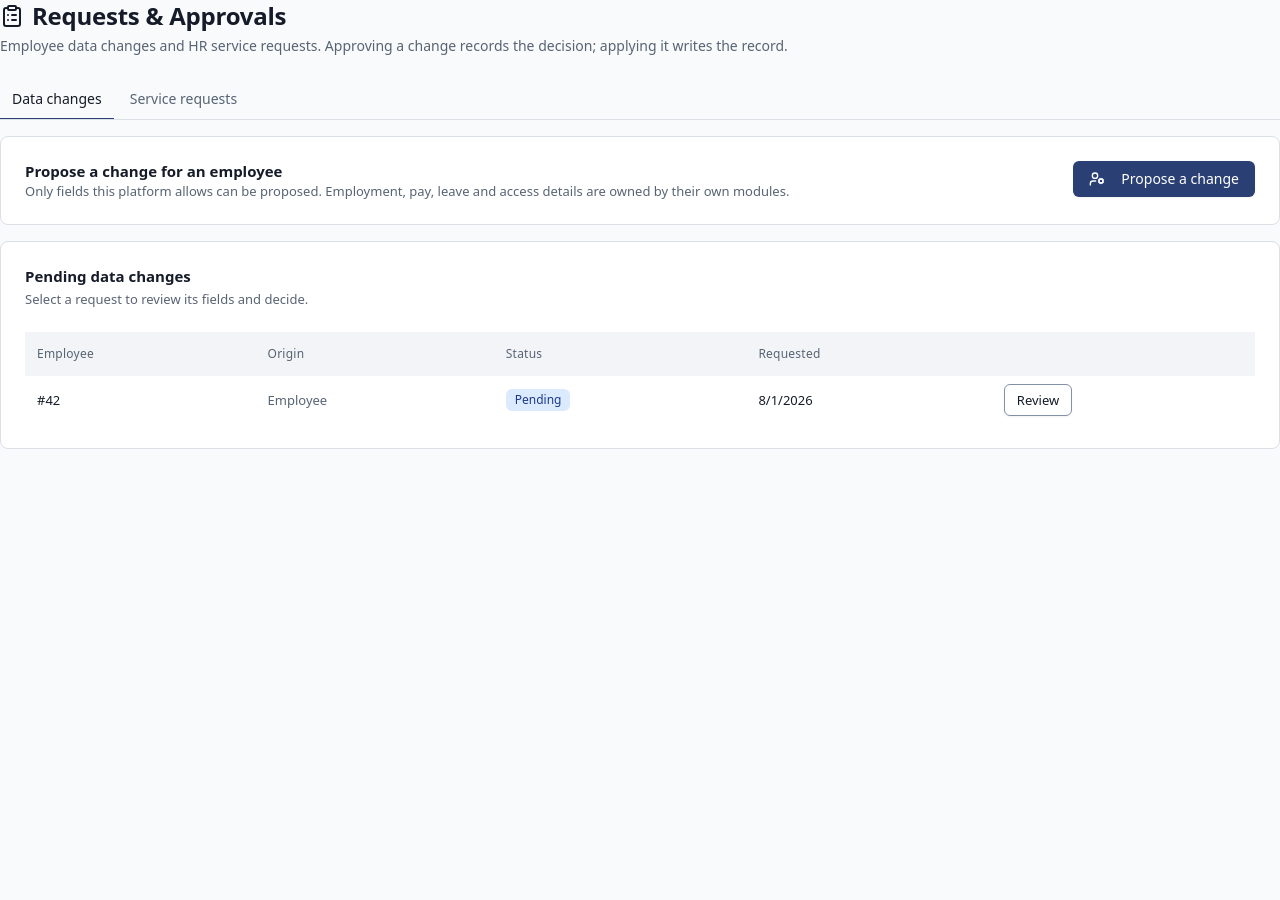
Requests & Approvals (HR) › rejecting a service request › asks for confirmation instead of rejecting in one click, and Cancel rejects nothing
Click the tab "Service requests": click(183, 100) [118, 80, 249, 120]
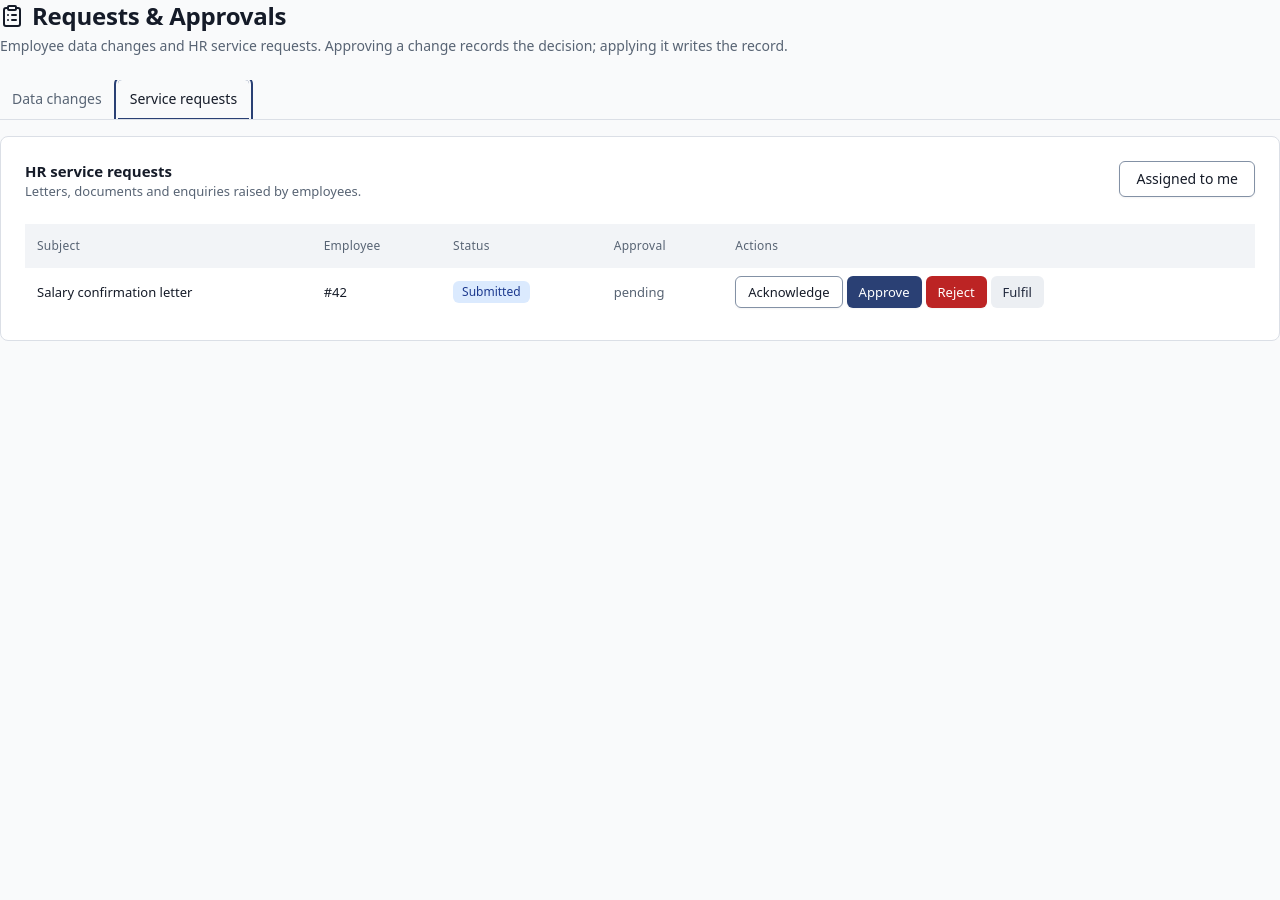
Click the button with test id "button-reject-service-12": click(956, 292) [926, 276, 986, 308]
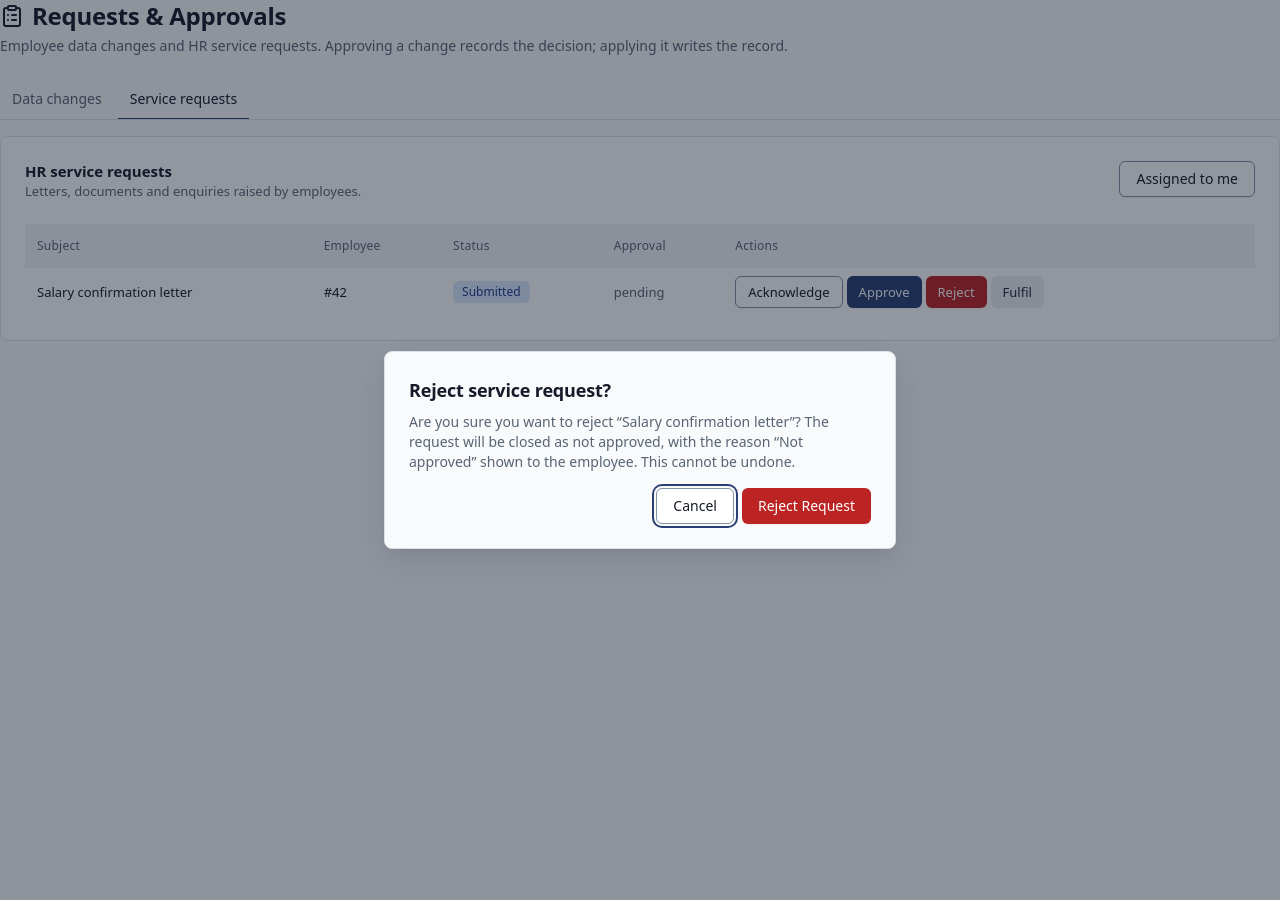
expect the dialog with test id "dialog-reject-service-request" shows "Reject service request?": met, box [409, 378, 611, 402]
expect the dialog with test id "dialog-reject-service-request" shows "“Salary confirmation letter”": met, box [384, 351, 896, 549]
expect the dialog with test id "dialog-reject-service-request" shows "This cannot be undone.": met, box [409, 412, 829, 471]
Click the button with test id "dialog-reject-service-request-cancel": click(695, 506) [656, 488, 734, 524]
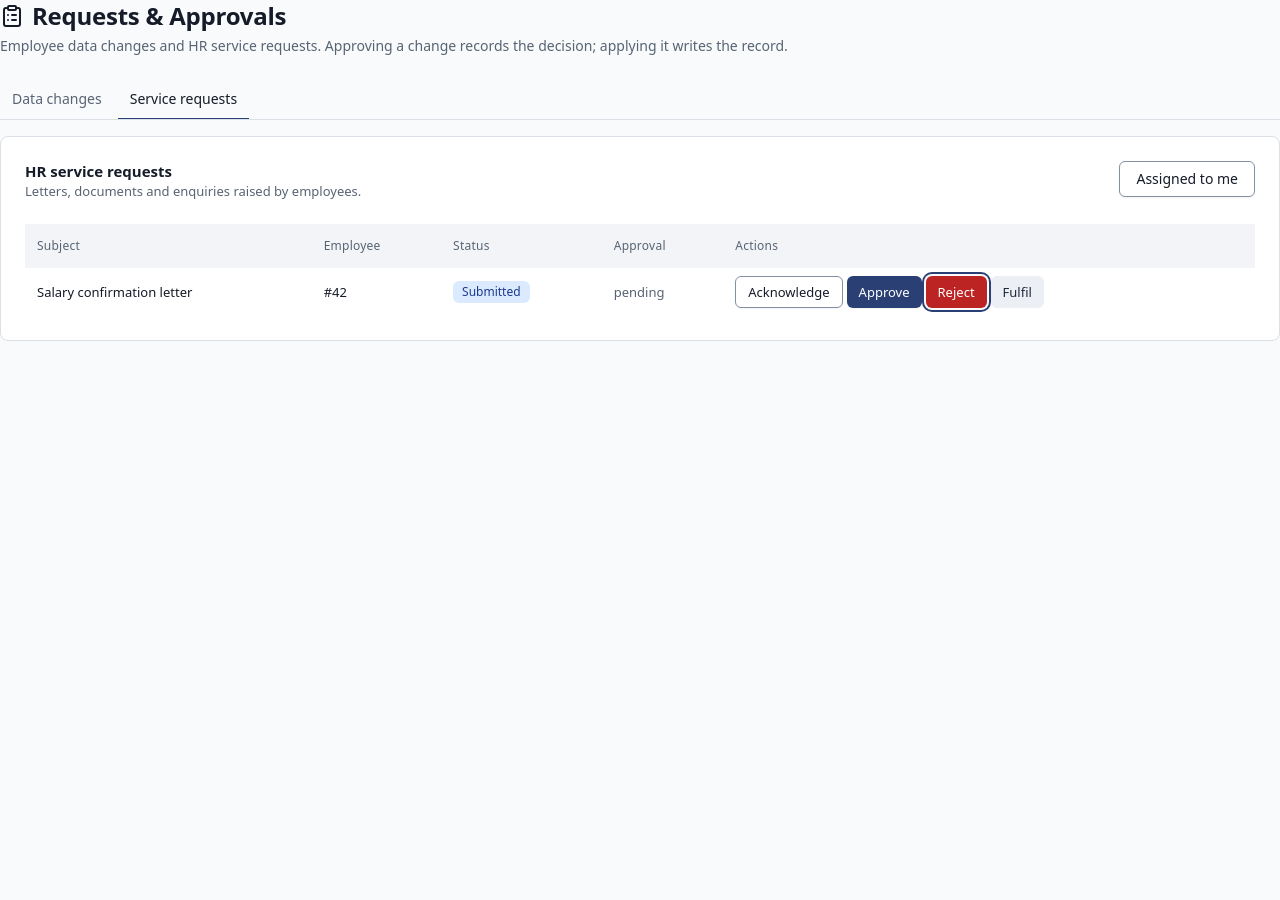
expect the dialog with test id "dialog-reject-service-request" is gone: met
